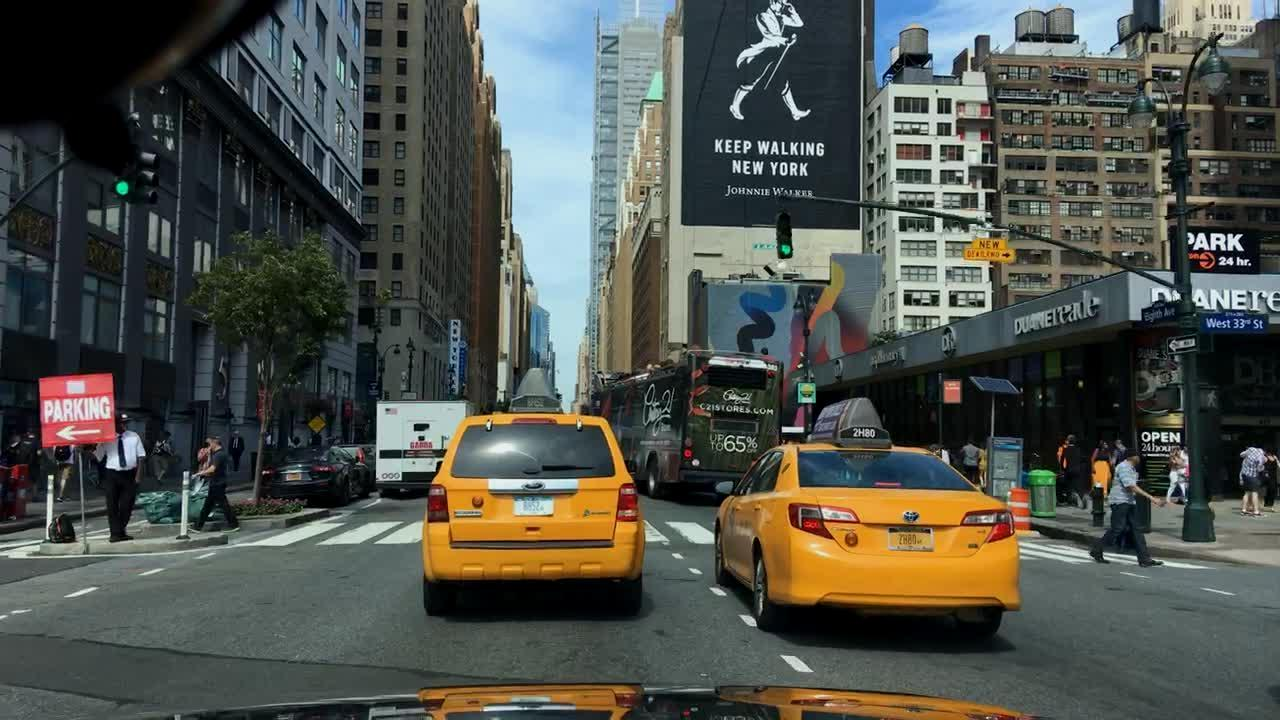Toyota: (901, 509, 924, 530)
ford: (522, 479, 552, 497)
